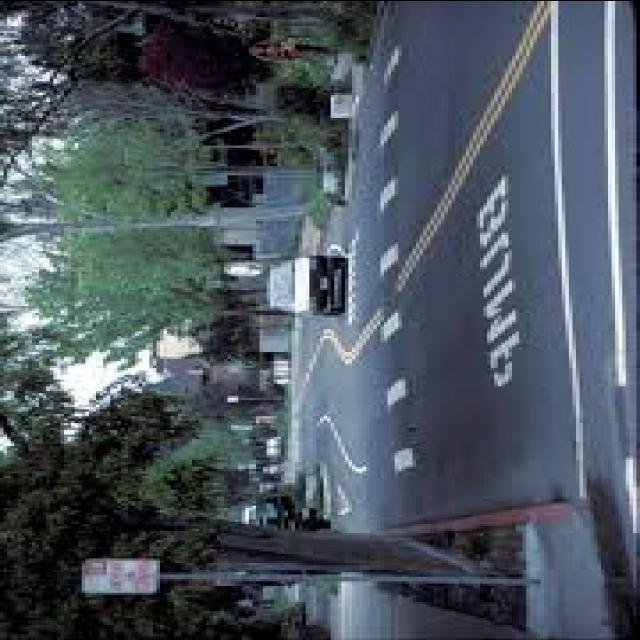speedbreaker: (366, 19, 424, 507)
